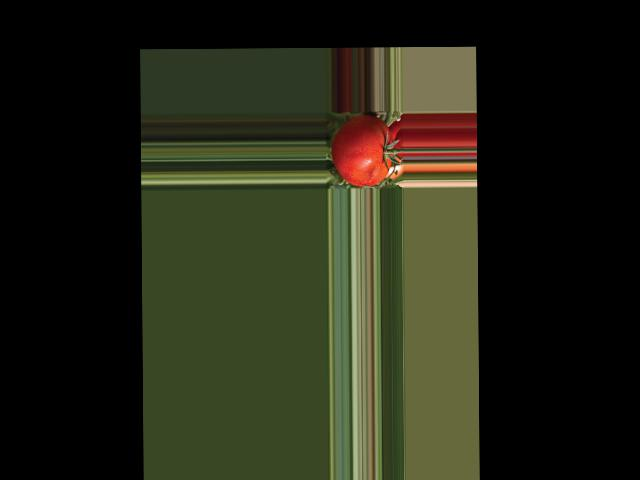tomato: (331, 115, 393, 187)
